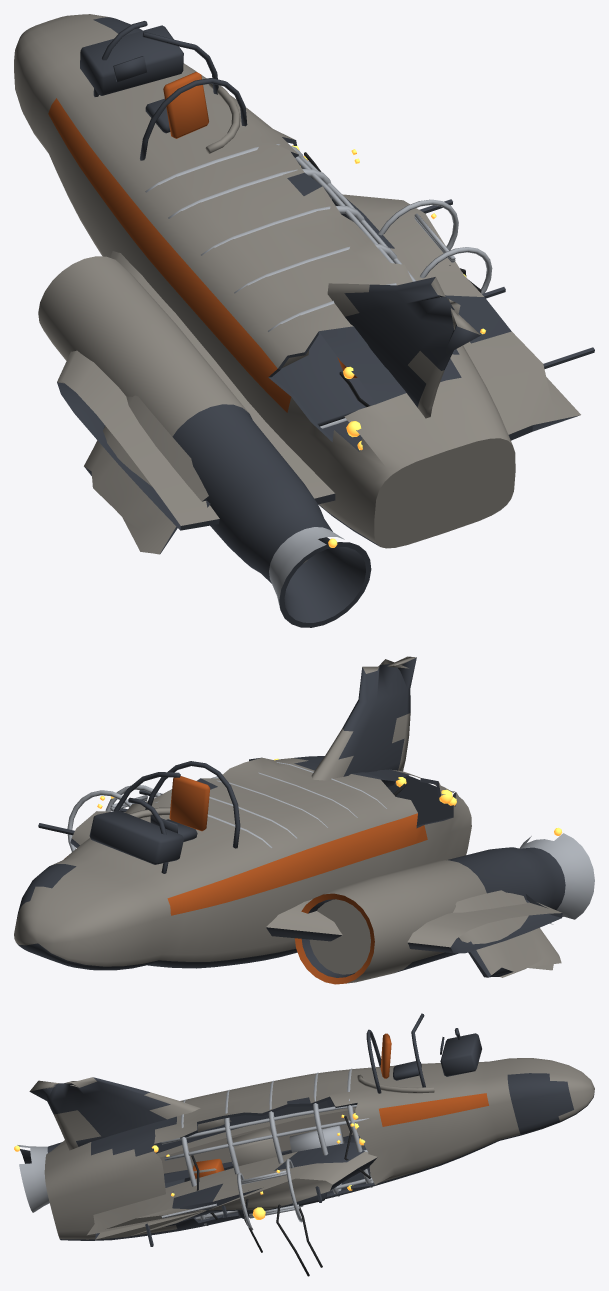
File: wreck_ship.glb
The picture shows the model from 3 angles, top to bottom: view 1: azimuth 30°, elevation 25°; view 2: azimuth 150°, elevation 25°; view 3: azimuth 270°, elevation 25°; orthographic projection. The views are drawn at different scales.
Visible parts, largest first — view 1: Body; view 2: Body; view 3: Body.
Boxes of the visible parts, box(x1,y1,x2,y2) form: Body: box(14, 14, 594, 627); Body: box(14, 656, 594, 984); Body: box(14, 1013, 594, 1276).
Bounding box in the file's own units: 6.25 × 4.57 × 10.28.
